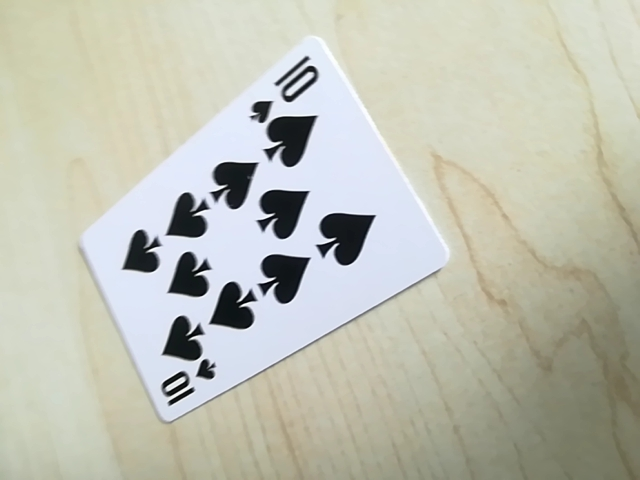ht 10: (248, 51, 325, 118), (155, 356, 223, 415)
